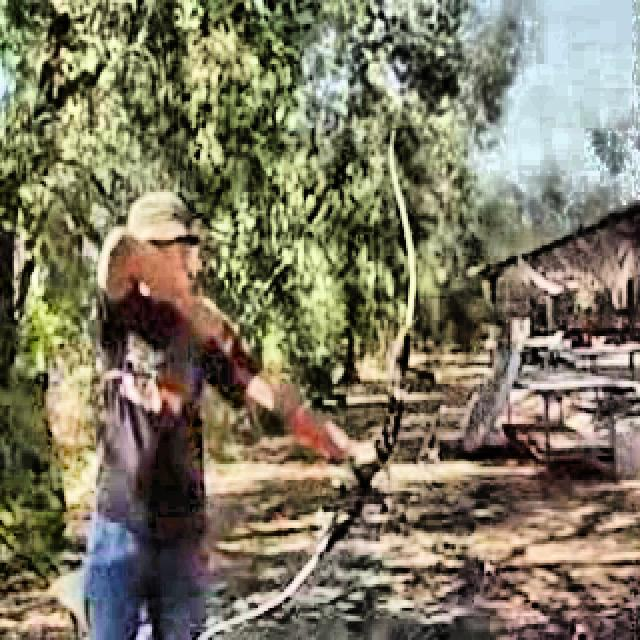I: (60, 171, 375, 640)
